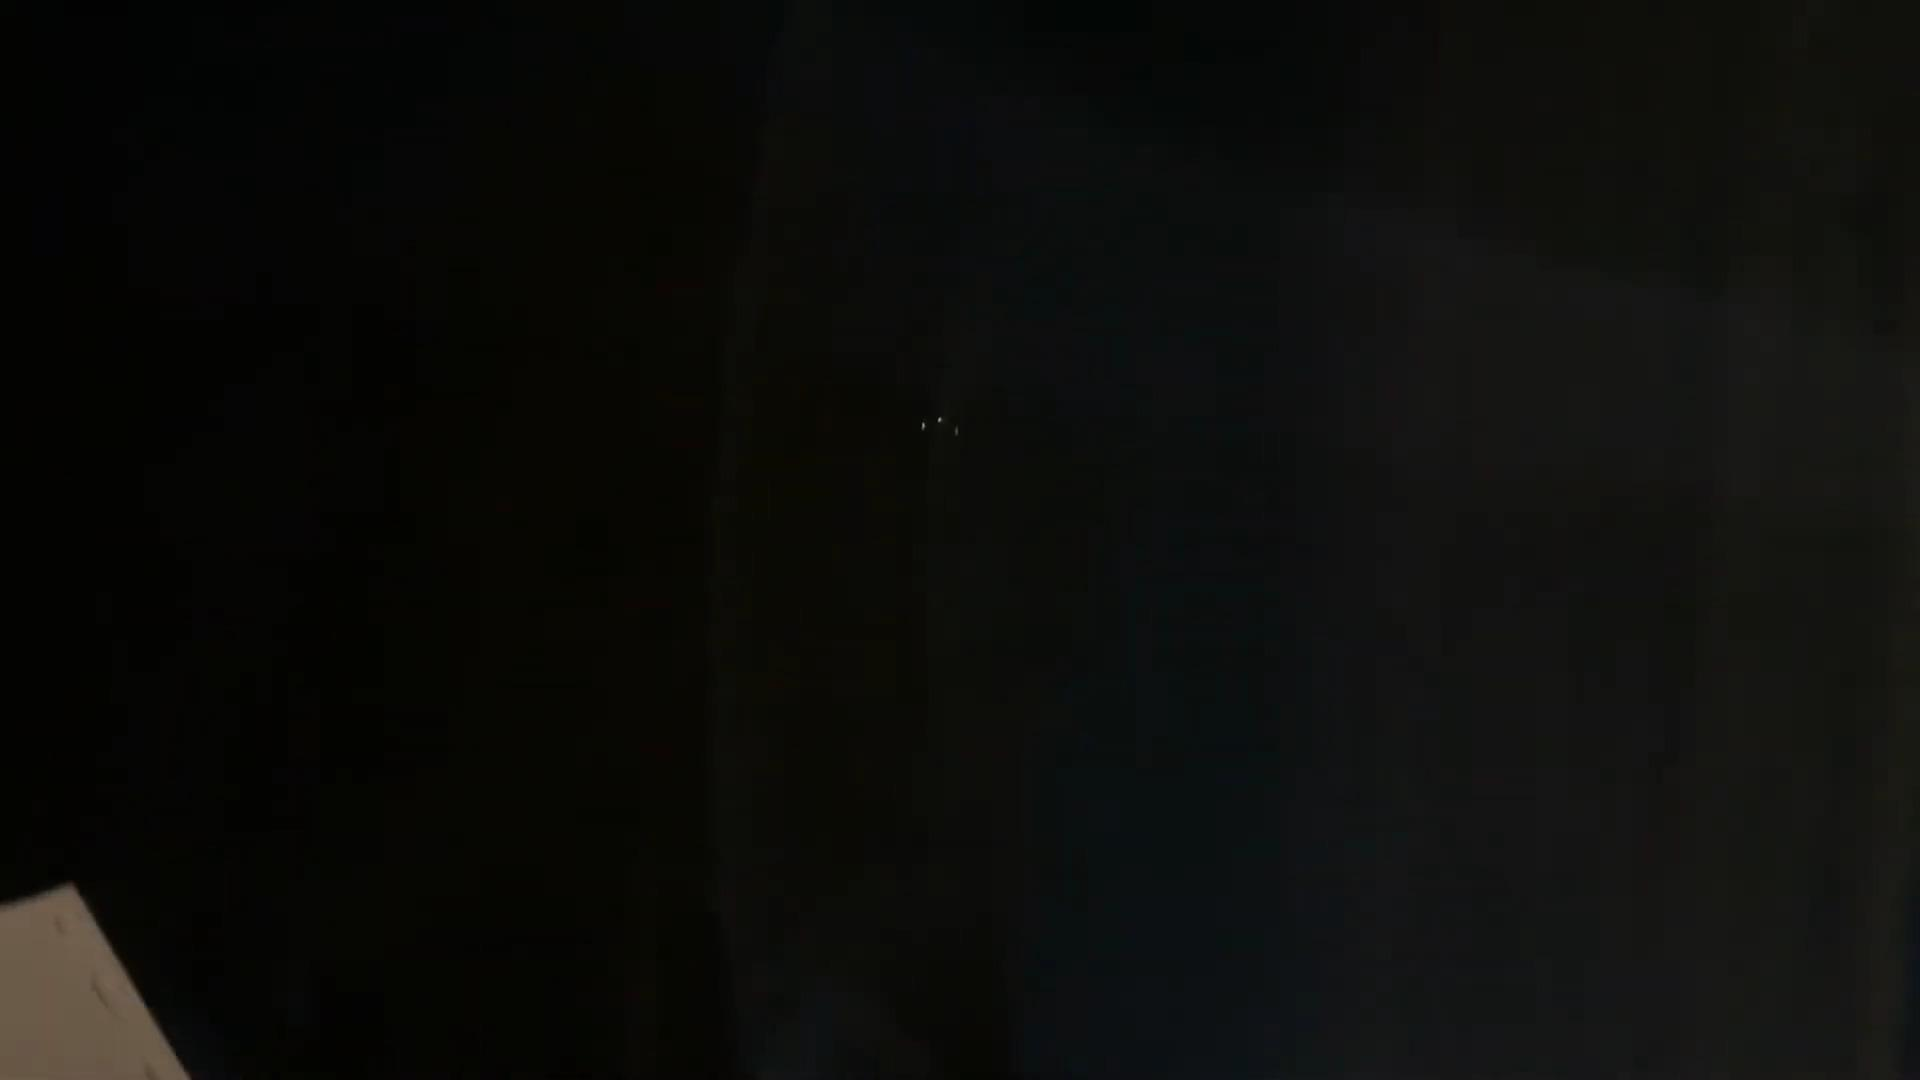Plane: (902, 411, 988, 445)
